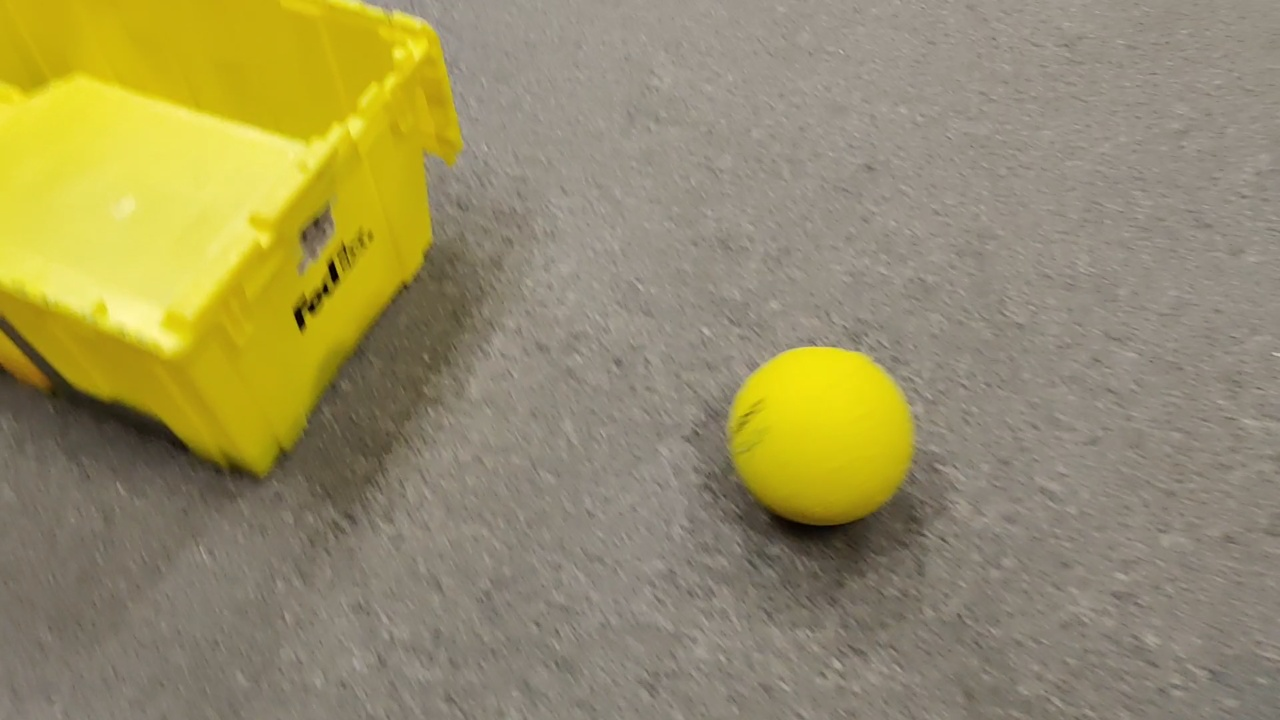Ball: (728, 346, 917, 527)
